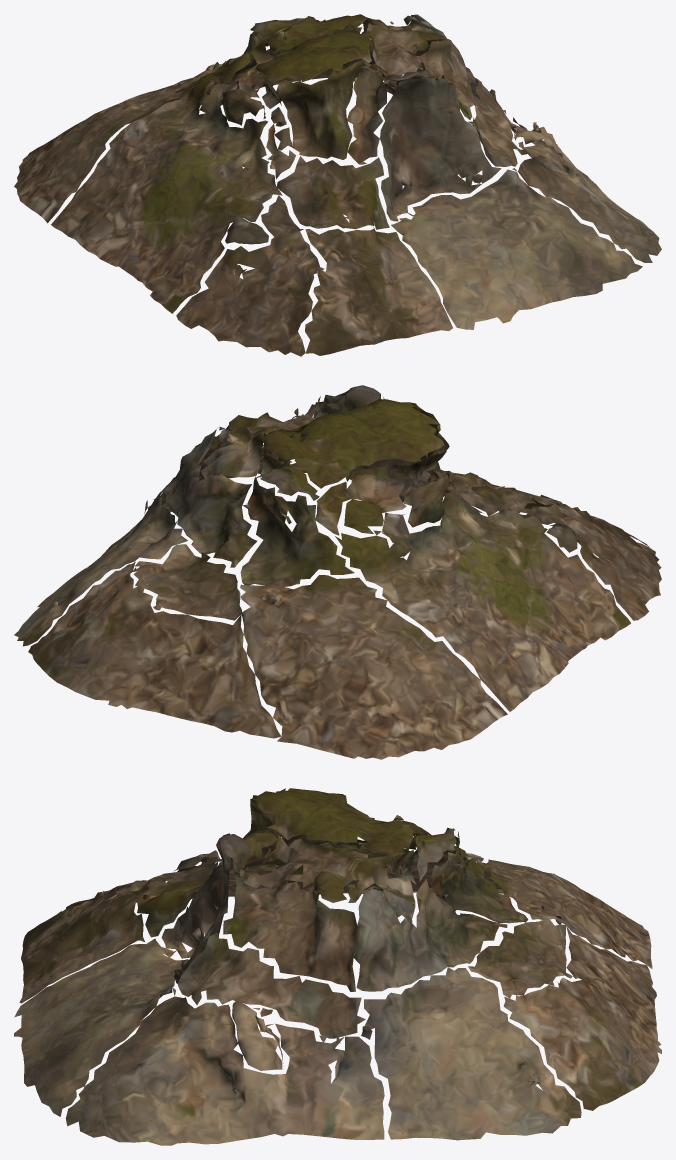
File: tree-stump-01.glb
The picture shows the model from 3 angles, top to bottom: view 1: azimuth 30°, elevation 25°; view 2: azimuth 150°, elevation 25°; view 3: azimuth 270°, elevation 25°; orthographic projection. The views are drawn at different scales.
Visible parts, largest first — view 1: tree_stump_01; view 2: tree_stump_01; view 3: tree_stump_01.
Part boxes in pixels (box(x1,y1,x2,y2)): tree_stump_01: box(14, 14, 661, 356); tree_stump_01: box(14, 385, 661, 759); tree_stump_01: box(14, 788, 661, 1145).
Bounding box in the file's own units: 1.42 × 0.569 × 1.59.
1 material, 1 textured.
